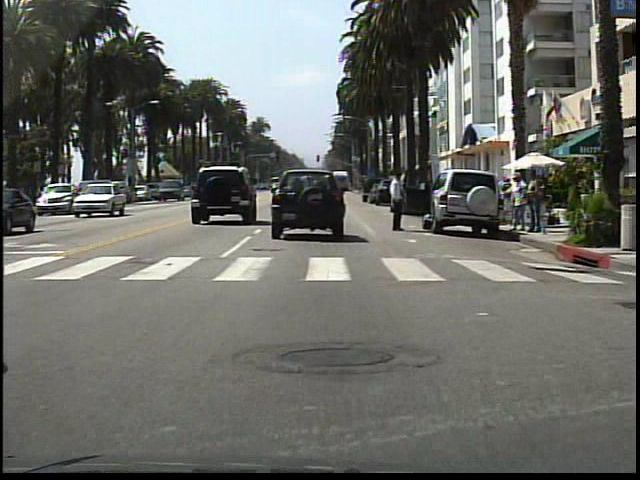person: (385, 165, 413, 235), (522, 164, 543, 237), (505, 166, 525, 235)
